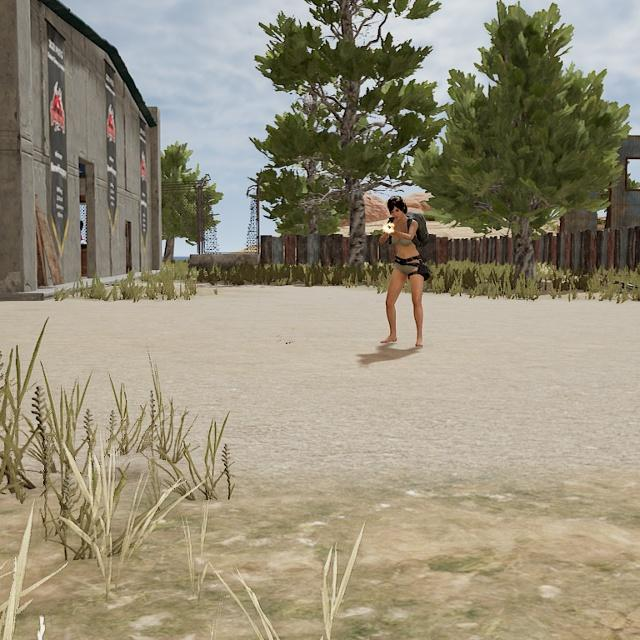head: (383, 193, 410, 225)
people: (374, 193, 433, 353)
